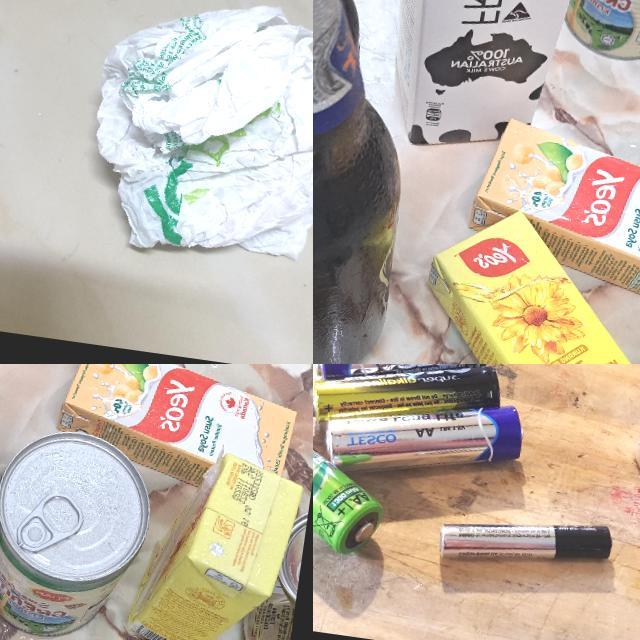aba de lata: (14, 487, 87, 559)
bateria: (322, 381, 527, 495), (313, 364, 503, 445), (437, 501, 616, 583), (313, 390, 395, 559), (313, 364, 500, 404)
caixinha: (400, 197, 640, 364), (122, 444, 306, 640), (461, 117, 640, 315), (50, 364, 305, 500), (384, 0, 569, 164)
garrafa de vidro: (313, 0, 434, 364)
lata: (0, 422, 160, 640), (233, 504, 308, 640), (558, 0, 640, 67)
sacola plástica: (72, 0, 313, 286)
